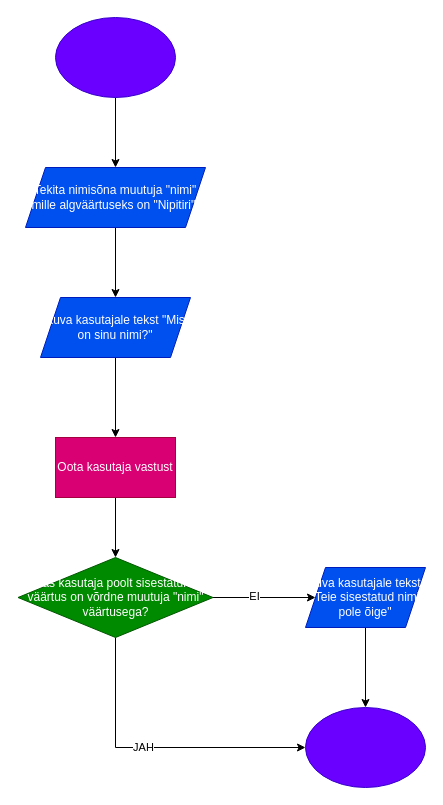
Image size: 443x805. Some labels were removed from this diagram. The centre of each missing label's shape, as x and y in pixels:
"Algus" goes at point (115, 57).
"Lõpp" goes at point (365, 747).
